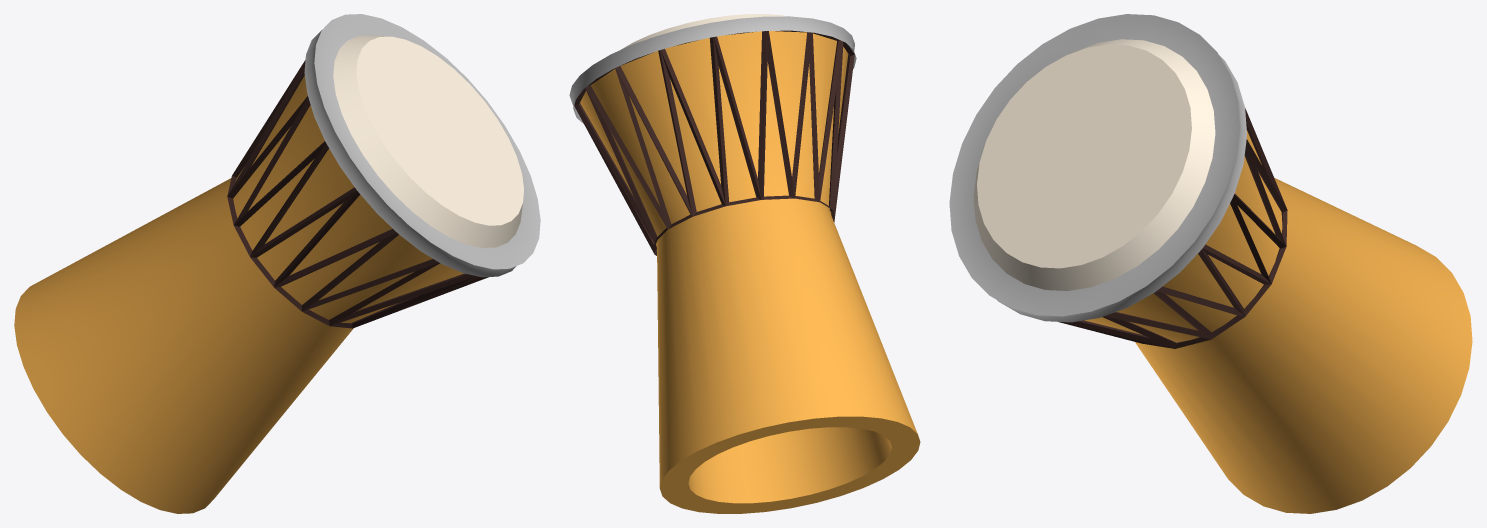
Rendered from long_drum.glb.
3 views of the same model, side by side, from view 1: azimuth 30°, elevation 25°; view 2: azimuth 150°, elevation 25°; view 3: azimuth 270°, elevation 25° (orthographic). The views are drawn at different scales.
Visible parts, largest first — view 1: Cylinder.496; view 2: Cylinder.496; view 3: Cylinder.496.
Boxes of the visible parts, bbox=[...] form: Cylinder.496: bbox=[14, 14, 540, 513]; Cylinder.496: bbox=[569, 14, 920, 513]; Cylinder.496: bbox=[949, 14, 1472, 513].
Bounding box in the file's own units: 2.11 × 2.32 × 2.11.
1 material, 1 textured.
